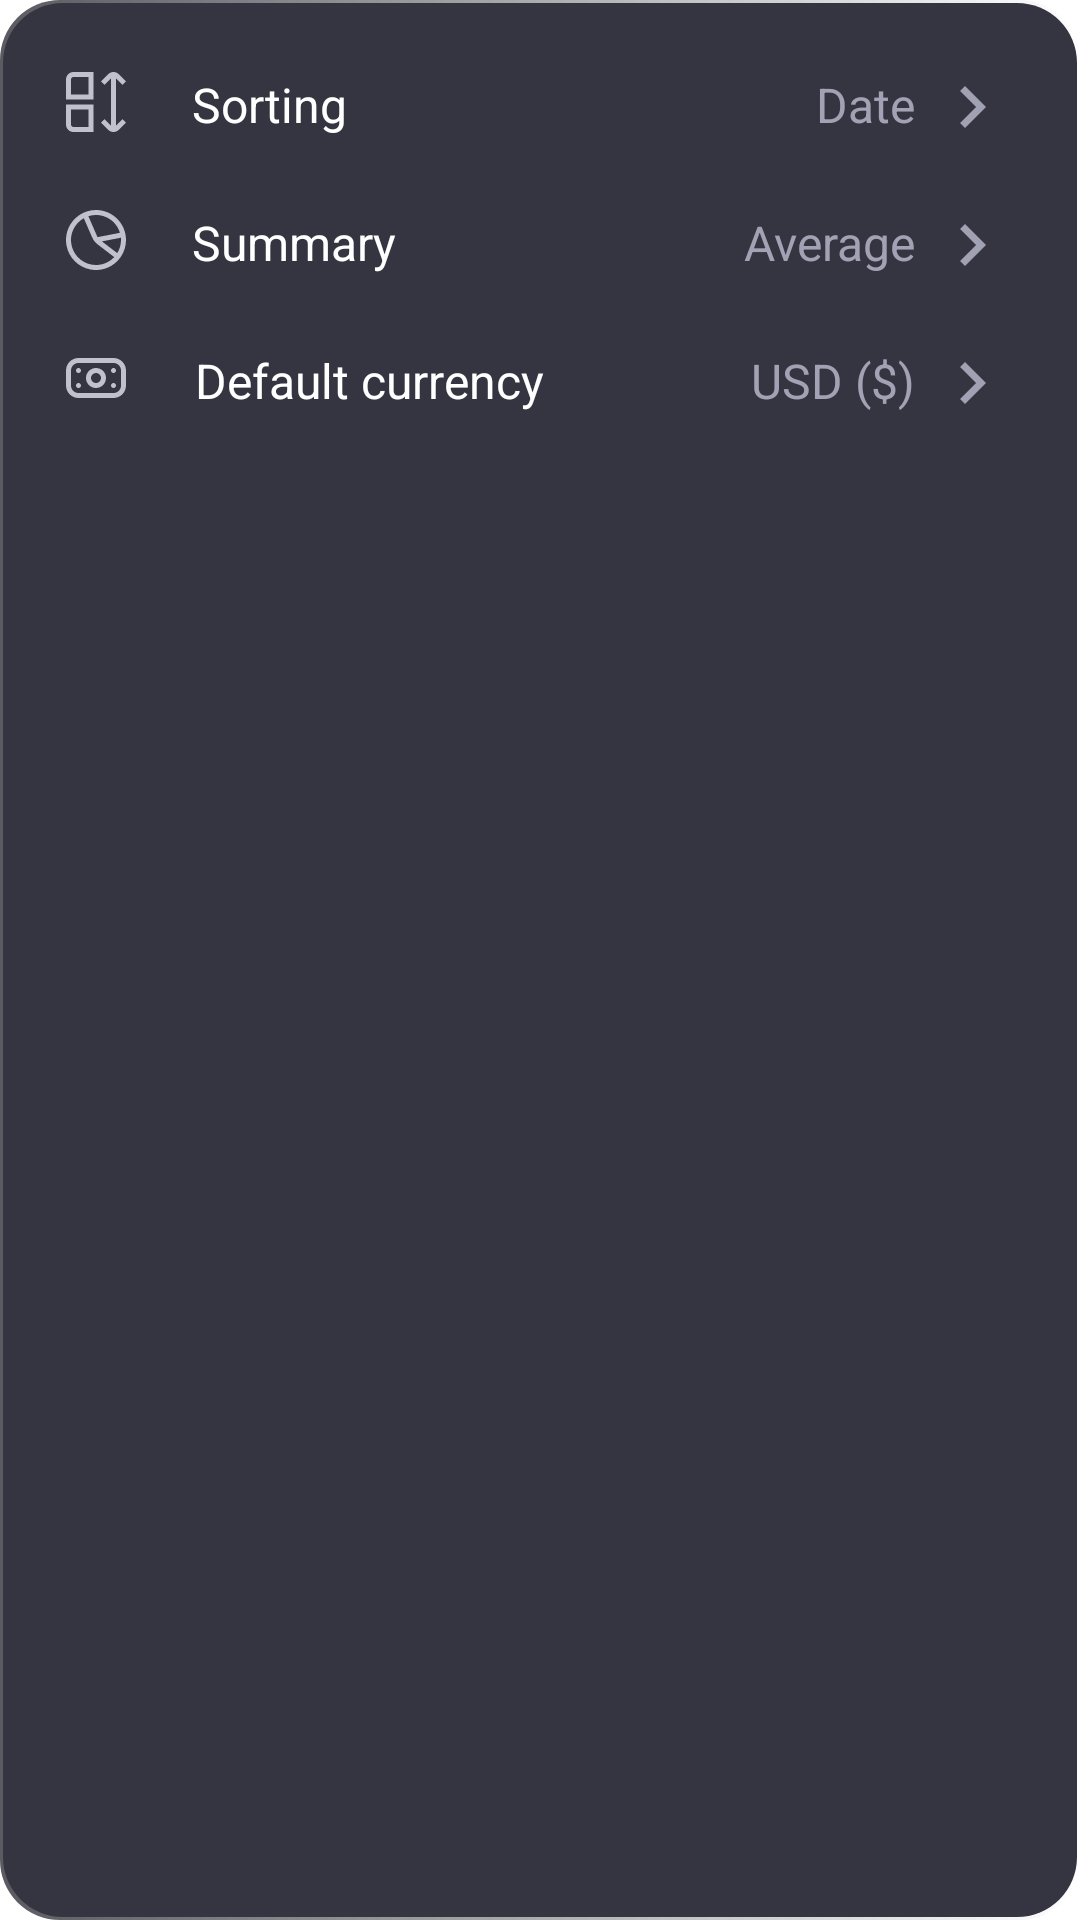

Screen size 1080 x 1920. Icon name, then its box in pixels as (x1, y1, x2, y2):
chart: (66, 210, 126, 270)
money: (66, 358, 126, 398)
right: (960, 86, 986, 128), (960, 224, 986, 266), (960, 362, 986, 404)
